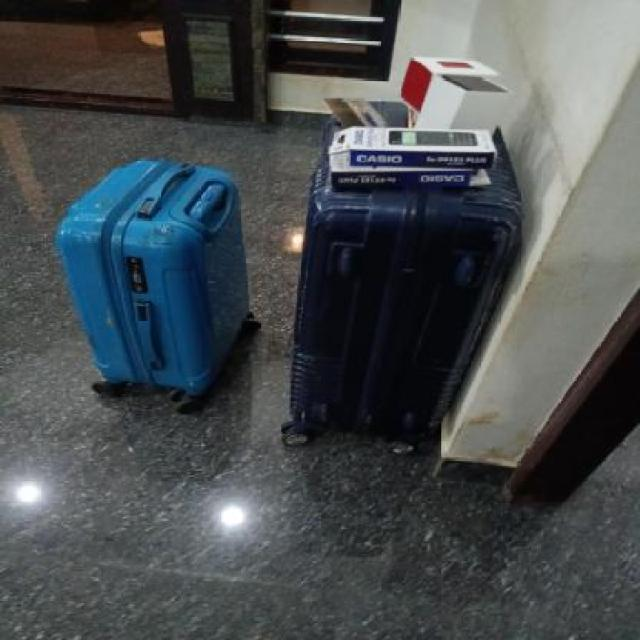backpack: (278, 93, 530, 464), (51, 152, 266, 418)
